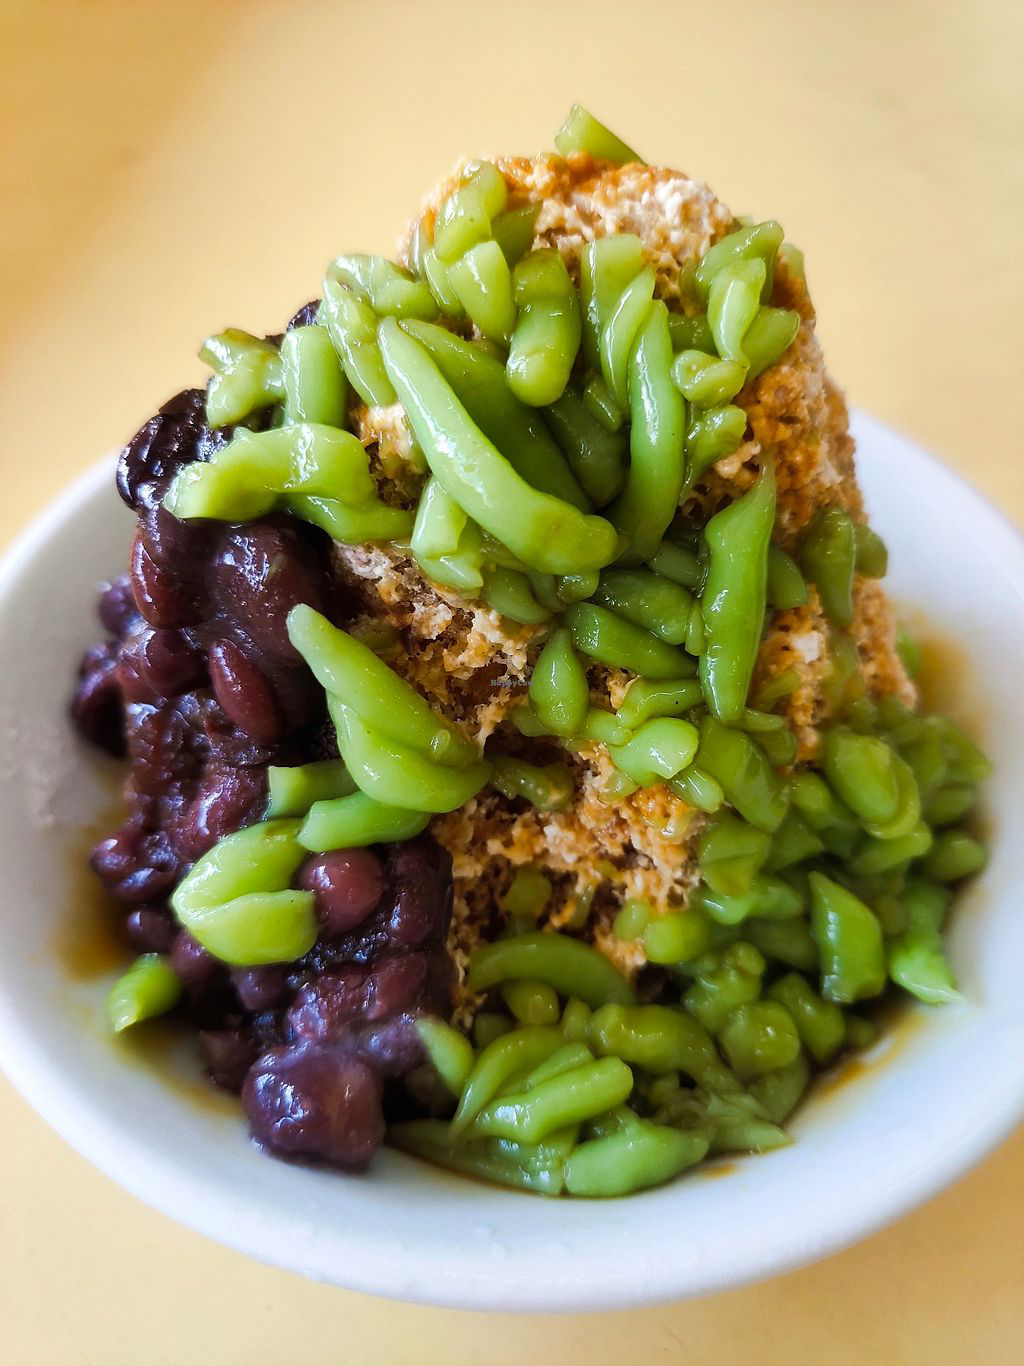Chendol: (71, 118, 991, 1191)
